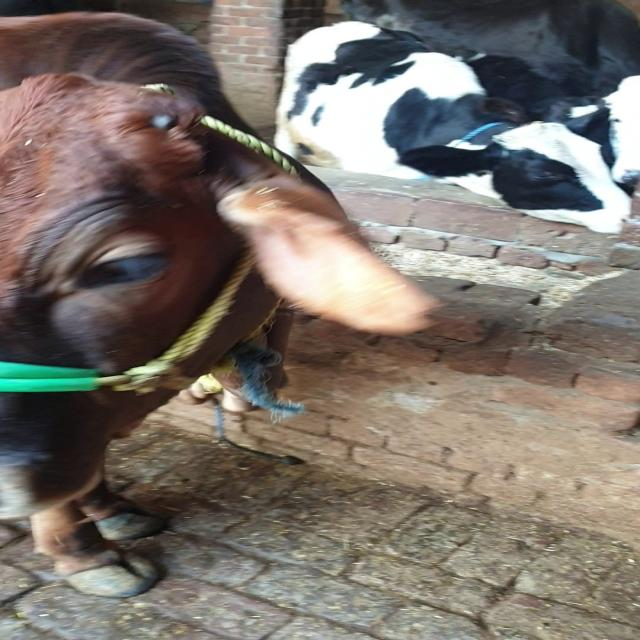cowFace: (0, 97, 204, 527), (462, 138, 640, 248)
